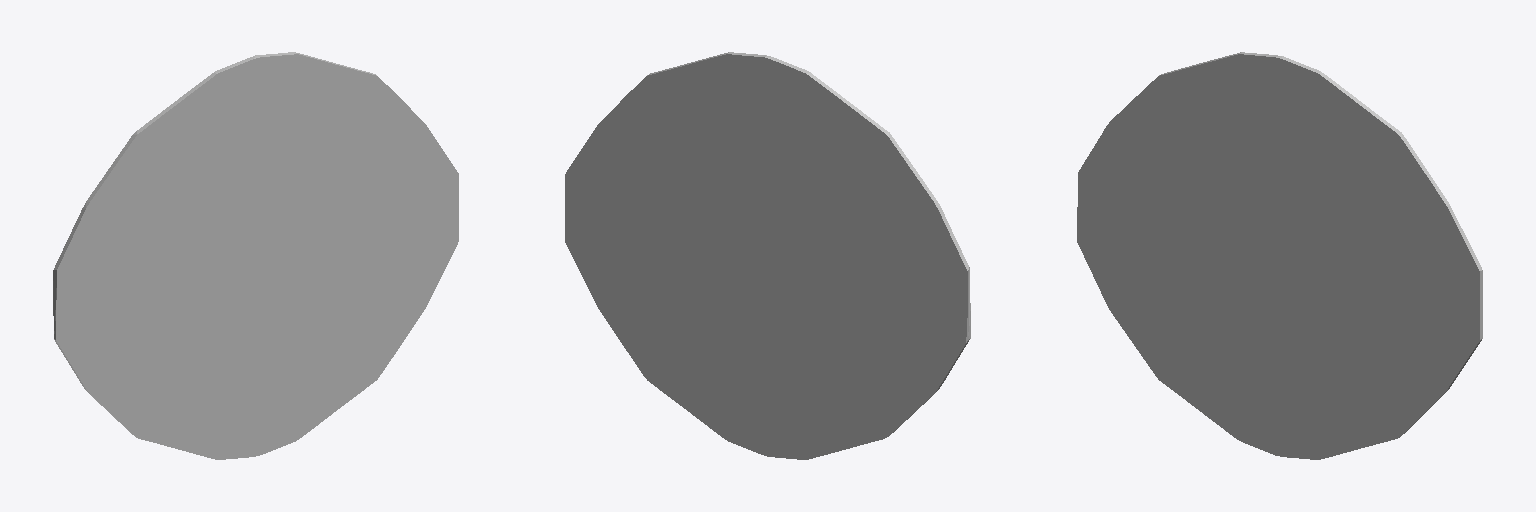
Rendered from kiwi-0.12-0.15_save.obj.
3 renders of one model, left to right at view 1: azimuth 30°, elevation 25°; view 2: azimuth 150°, elevation 25°; view 3: azimuth 330°, elevation 25°, orthographic.
Visible parts, largest first — view 1: test; view 2: test; view 3: test.
Part boxes in pixels (x1,y1,x2,y2): test: (53, 52, 458, 459); test: (565, 52, 970, 459); test: (1077, 52, 1482, 459).
Size of the model in its own units: 2.43 by 2.3 by 0.0301.